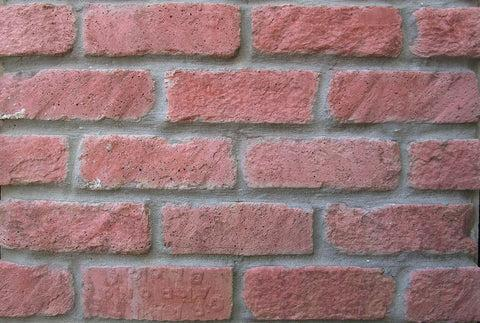Bricks: (82, 268, 232, 323), (81, 135, 230, 188), (245, 269, 396, 321), (0, 73, 153, 124), (329, 204, 480, 255), (248, 139, 401, 188), (1, 199, 148, 250), (90, 8, 236, 56), (168, 73, 312, 121), (164, 206, 311, 253), (333, 75, 480, 120), (255, 9, 400, 53), (0, 266, 76, 316), (414, 269, 480, 323), (0, 4, 75, 50), (413, 141, 480, 190), (0, 135, 67, 180), (417, 10, 480, 56)
